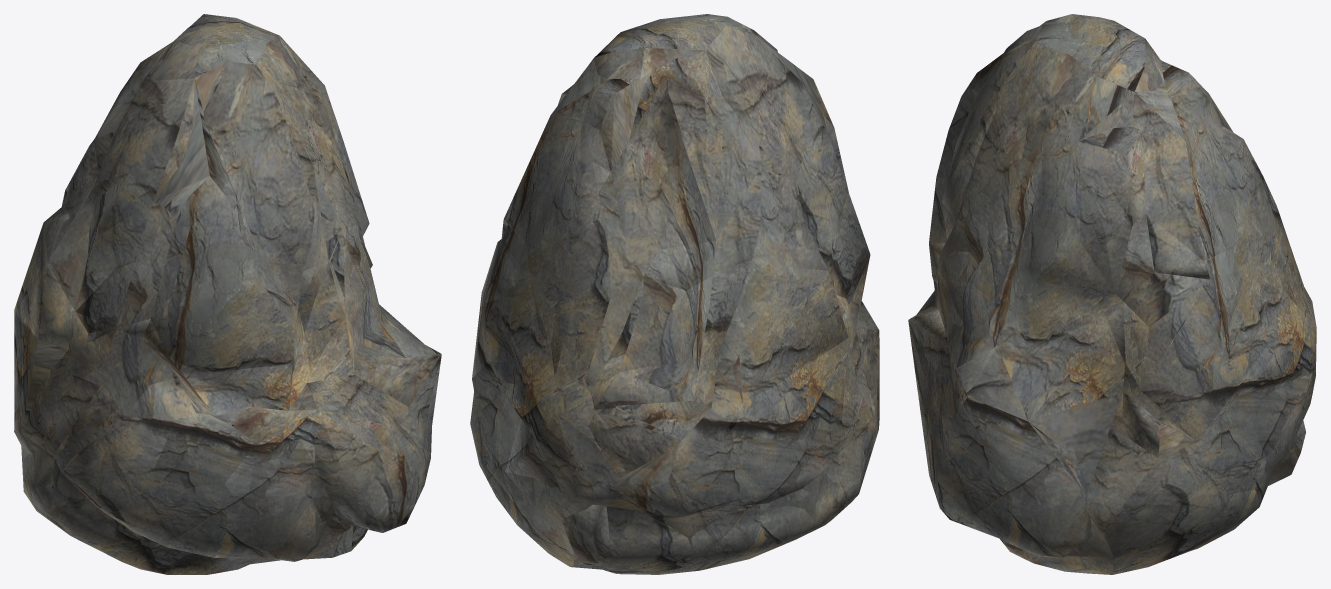
File: boulder_layered.glb
The picture shows the model from 3 angles, left to right: view 1: azimuth 30°, elevation 25°; view 2: azimuth 150°, elevation 25°; view 3: azimuth 270°, elevation 25°; orthographic projection. The views are drawn at different scales.
Parts seen in each view (by area): view 1: LOD0; view 2: LOD0; view 3: LOD0.
Part boxes in pixels (x1,y1,x2,y2): LOD0: [14, 14, 441, 574]; LOD0: [470, 14, 879, 574]; LOD0: [908, 14, 1316, 574].
Size of what is drawn, in the model's own units: 4.62 by 6.17 by 4.65.
Materials: 1 (1 with a texture image).
